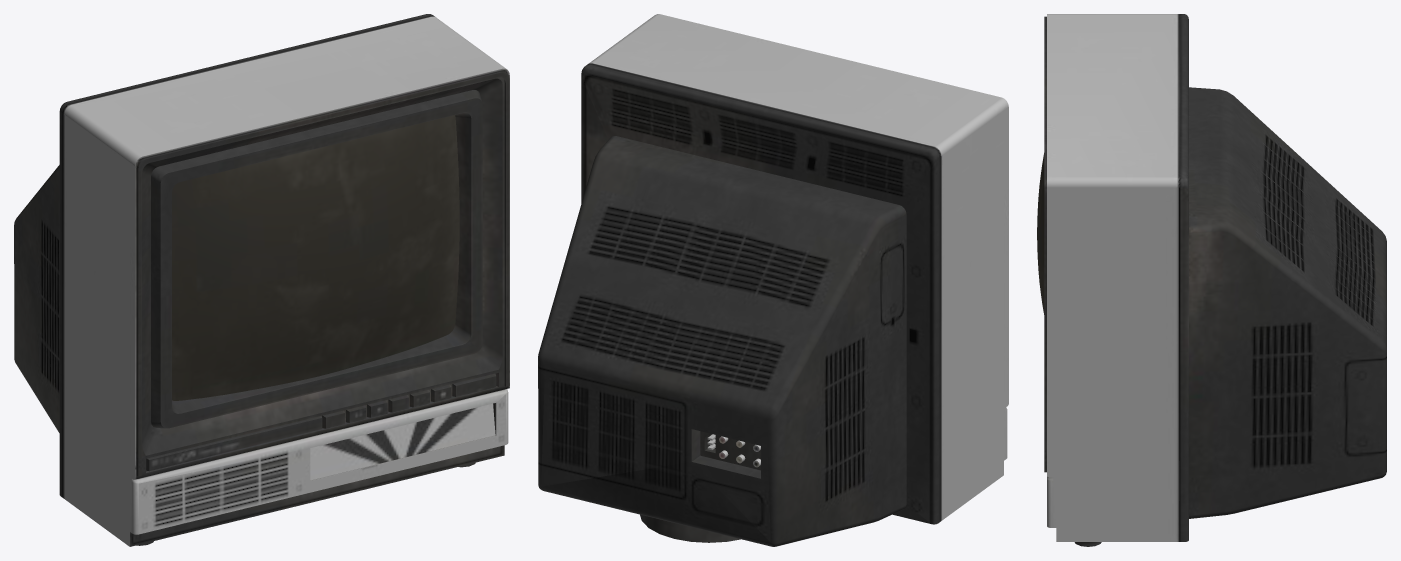
Rendered from television_02.gltf.
3 renders of one model, left to right at view 1: azimuth 30°, elevation 25°; view 2: azimuth 150°, elevation 25°; view 3: azimuth 270°, elevation 25°, orthographic. The views are drawn at different scales.
Parts seen in each view (by area): view 1: television_02; view 2: television_02; view 3: television_02.
Part boxes in pixels (x1,y1,x2,y2): television_02: [14, 14, 509, 546]; television_02: [538, 14, 1008, 546]; television_02: [1037, 14, 1386, 546].
Size of the model in its own units: 0.3997 by 0.4114 by 0.3502.
1 material, 1 textured.
